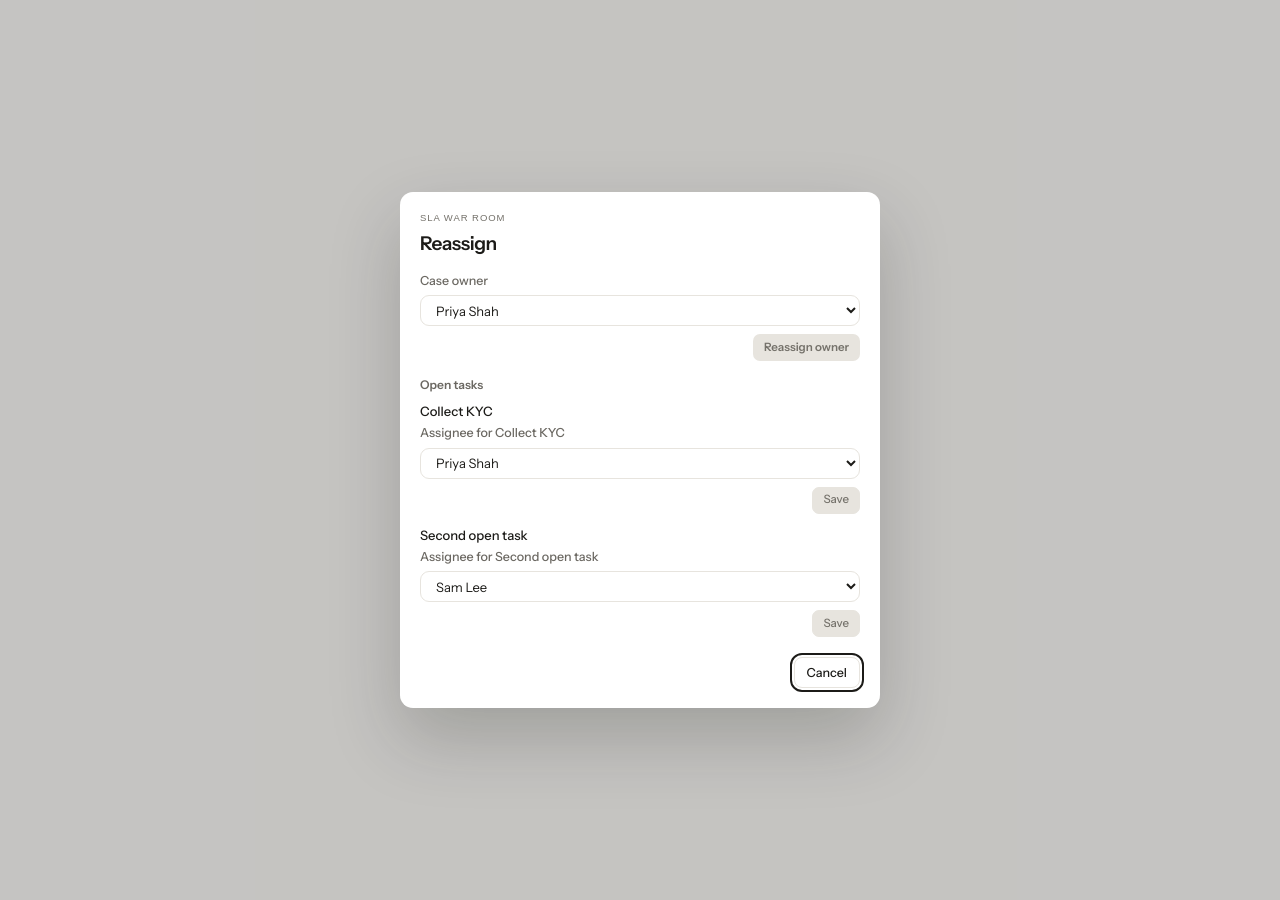
Test case: ReassignDialog › shows the problem detail on a 404 and stays open
Select "Sam Lee" in the dropdown labelled "Case owner" at x=640, y=311, box [420,295,860,326]
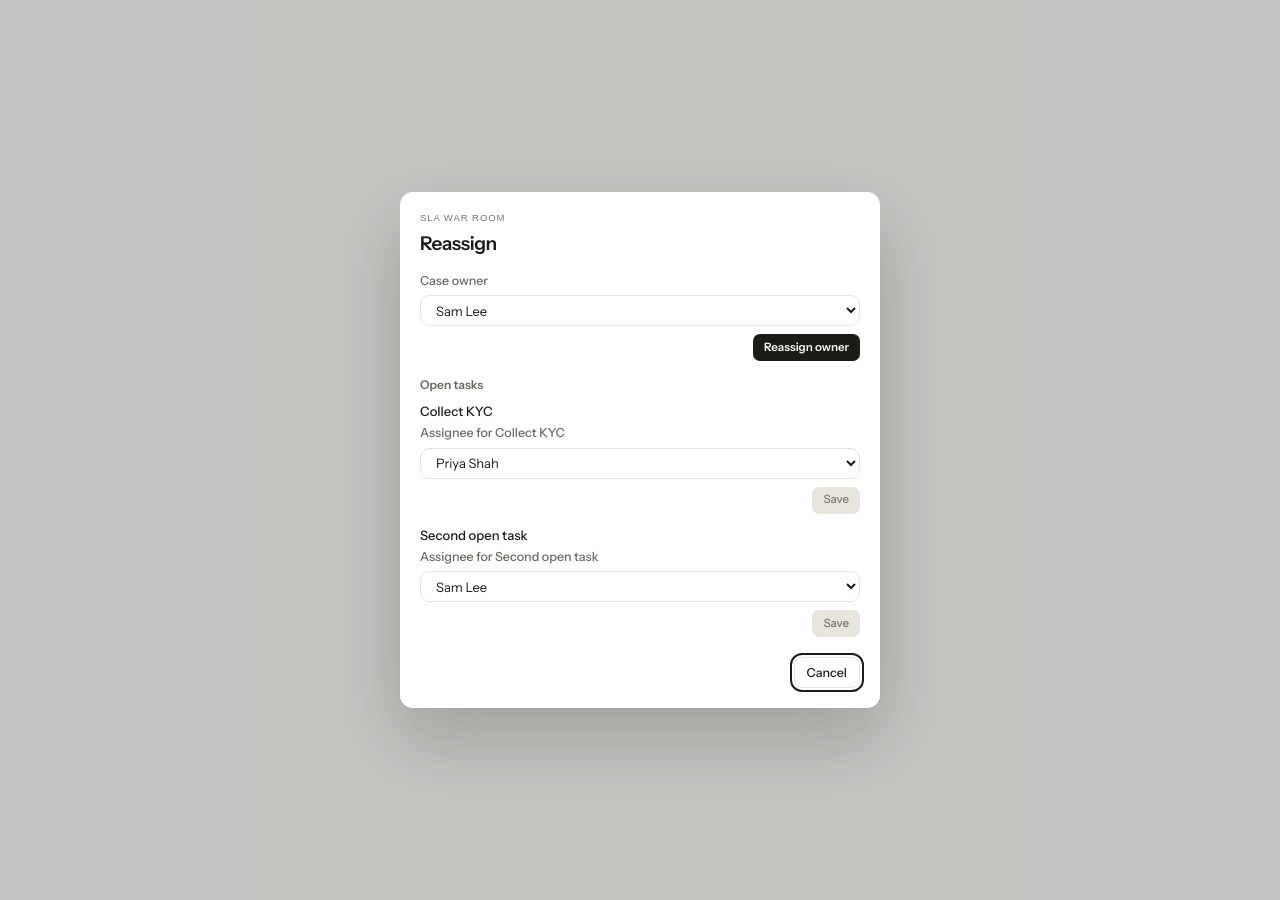
Click the button "Reassign owner" at x=807, y=348, box [753,334,860,361]
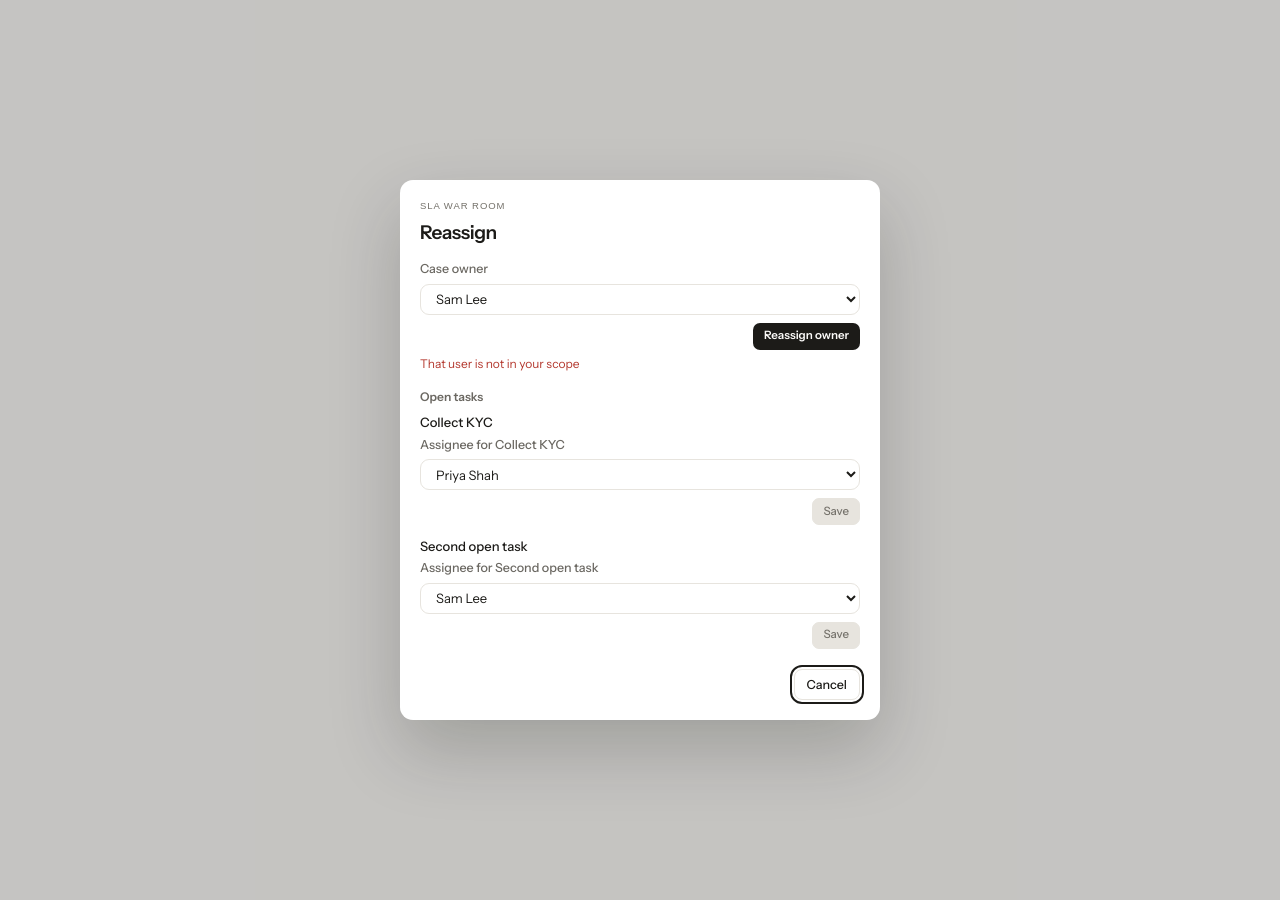
Check: the message reads "That user is not in your scope", box [420,356,580,371]
